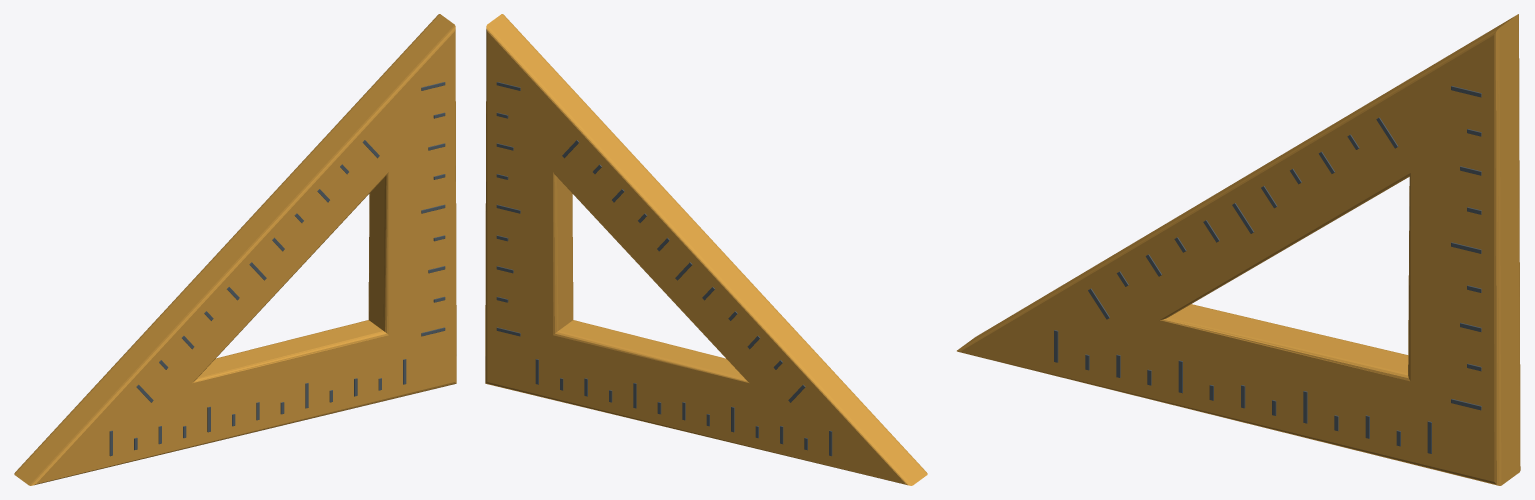
The model's file is workshop-triangle.glb.
3 views of the same model, side by side, from view 1: azimuth 30°, elevation 25°; view 2: azimuth 150°, elevation 25°; view 3: azimuth 330°, elevation 25° (orthographic). The views are drawn at different scales.
Parts seen in each view (by area): view 1: brass, steelInset; view 2: brass, steelInset; view 3: brass, steelInset.
Boxes of the visible parts, x1=… form: brass: x1=14, y1=14, x2=456, y2=485; steelInset: x1=109, y1=82, x2=445, y2=456; brass: x1=485, y1=14, x2=927, y2=485; steelInset: x1=496, y1=82, x2=832, y2=456; brass: x1=957, y1=14, x2=1520, y2=485; steelInset: x1=1054, y1=86, x2=1481, y2=453.
Bounding box in the file's own units: 0.3058 × 0.2457 × 0.0241.
